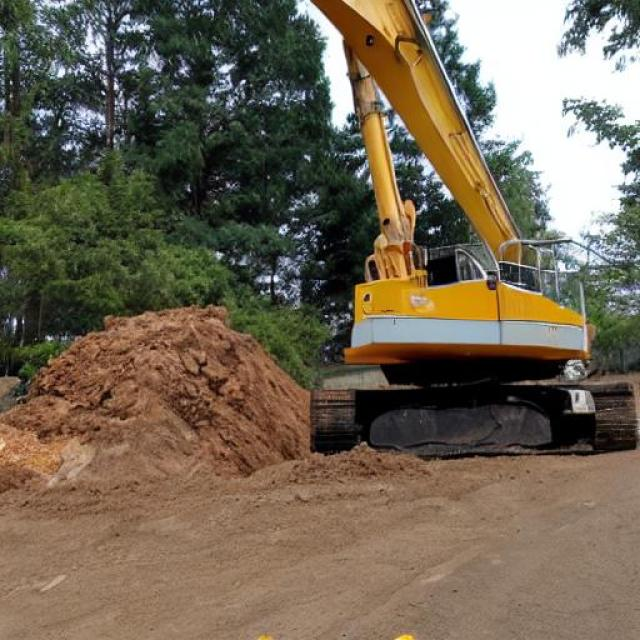excavator: (298, 135, 397, 394)
truck: (239, 275, 387, 406)
